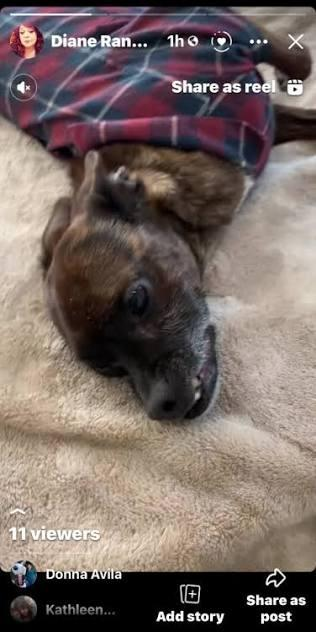adult_dog: (39, 141, 250, 424)
